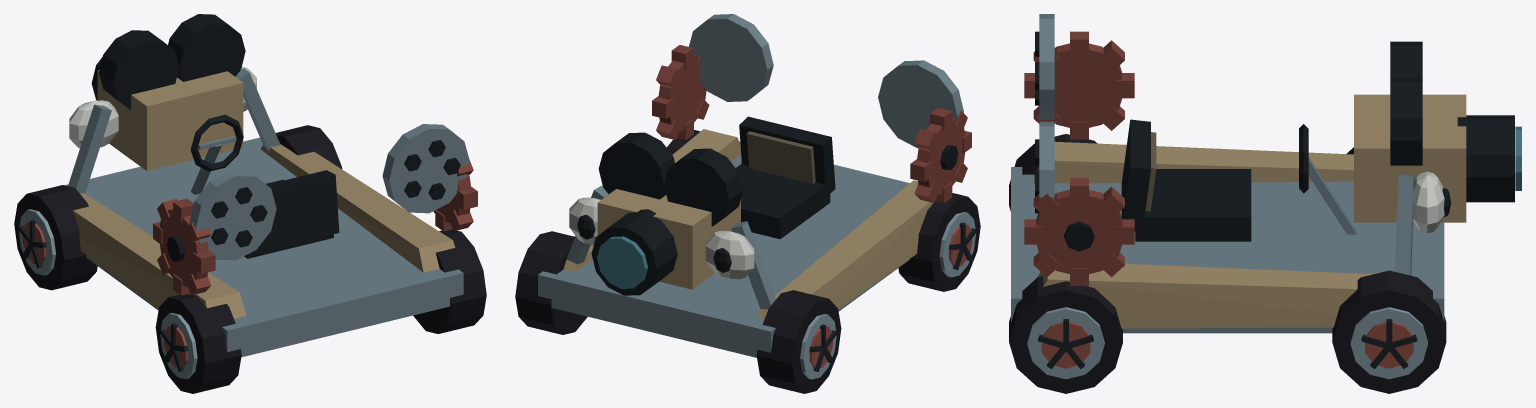
Rendered from kart.glb.
3 views of the same model, side by side, from view 1: azimuth 30°, elevation 25°; view 2: azimuth 150°, elevation 25°; view 3: azimuth 270°, elevation 25° (orthographic). The views are drawn at different scales.
Parts seen in each view (by area): view 1: identity-camera-rig-camera-dolly-and-lens, identity-camera-rig-motif-film, identity-camera-rig-driver-cockpit, wheel-rear-left, wheel-front-left, identity-camera-rig-motif-gears, wheel-rear-right, wheel-front-right, identity-camera-rig-motif-eyes; view 2: identity-camera-rig-camera-dolly-and-lens, identity-camera-rig-motif-film, identity-camera-rig-driver-cockpit, identity-camera-rig-motif-gears, wheel-front-left, wheel-rear-left, wheel-front-right, identity-camera-rig-motif-eyes; view 3: identity-camera-rig-camera-dolly-and-lens, identity-camera-rig-motif-gears, identity-camera-rig-driver-cockpit, wheel-front-right, wheel-rear-right, identity-camera-rig-motif-film, identity-camera-rig-motif-eyes, wheel-rear-left.
Part boxes in pixels (x1=…): identity-camera-rig-camera-dolly-and-lens: x1=65, y1=14, x2=463, y2=357; identity-camera-rig-motif-film: x1=189, y1=124, x2=469, y2=260; identity-camera-rig-driver-cockpit: x1=190, y1=114, x2=339, y2=258; wheel-rear-left: x1=155, y1=294, x2=241, y2=393; wheel-front-left: x1=14, y1=185, x2=97, y2=290; identity-camera-rig-motif-gears: x1=153, y1=159, x2=477, y2=295; wheel-rear-right: x1=413, y1=229, x2=486, y2=333; wheel-front-right: x1=275, y1=125, x2=342, y2=168; identity-camera-rig-motif-eyes: x1=69, y1=66, x2=256, y2=148; identity-camera-rig-camera-dolly-and-lens: x1=538, y1=129, x2=933, y2=357; identity-camera-rig-motif-film: x1=689, y1=14, x2=963, y2=148; identity-camera-rig-driver-cockpit: x1=735, y1=116, x2=835, y2=239; identity-camera-rig-motif-gears: x1=652, y1=45, x2=971, y2=203; wheel-front-left: x1=756, y1=290, x2=841, y2=393; wheel-rear-left: x1=898, y1=193, x2=980, y2=291; wheel-front-right: x1=515, y1=231, x2=587, y2=334; identity-camera-rig-motif-eyes: x1=569, y1=197, x2=754, y2=279; identity-camera-rig-camera-dolly-and-lens: x1=1011, y1=41, x2=1521, y2=333; identity-camera-rig-motif-gears: x1=1024, y1=31, x2=1134, y2=285; identity-camera-rig-driver-cockpit: x1=1121, y1=119, x2=1356, y2=241; wheel-front-right: x1=1332, y1=270, x2=1446, y2=393; wheel-rear-right: x1=1009, y1=276, x2=1122, y2=393; identity-camera-rig-motif-film: x1=1035, y1=14, x2=1054, y2=213; identity-camera-rig-motif-eyes: x1=1412, y1=171, x2=1450, y2=233; wheel-rear-left: x1=1009, y1=134, x2=1097, y2=211.
Size of the model in its own units: 2.07 by 1.46 by 2.7.
